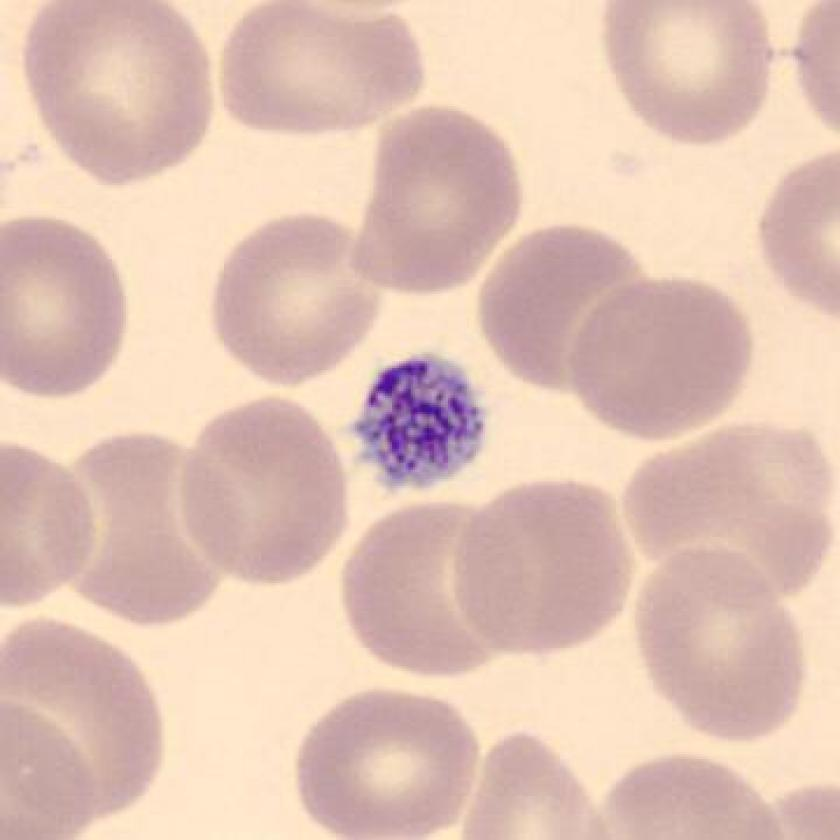platelets: (349, 341, 500, 501)
